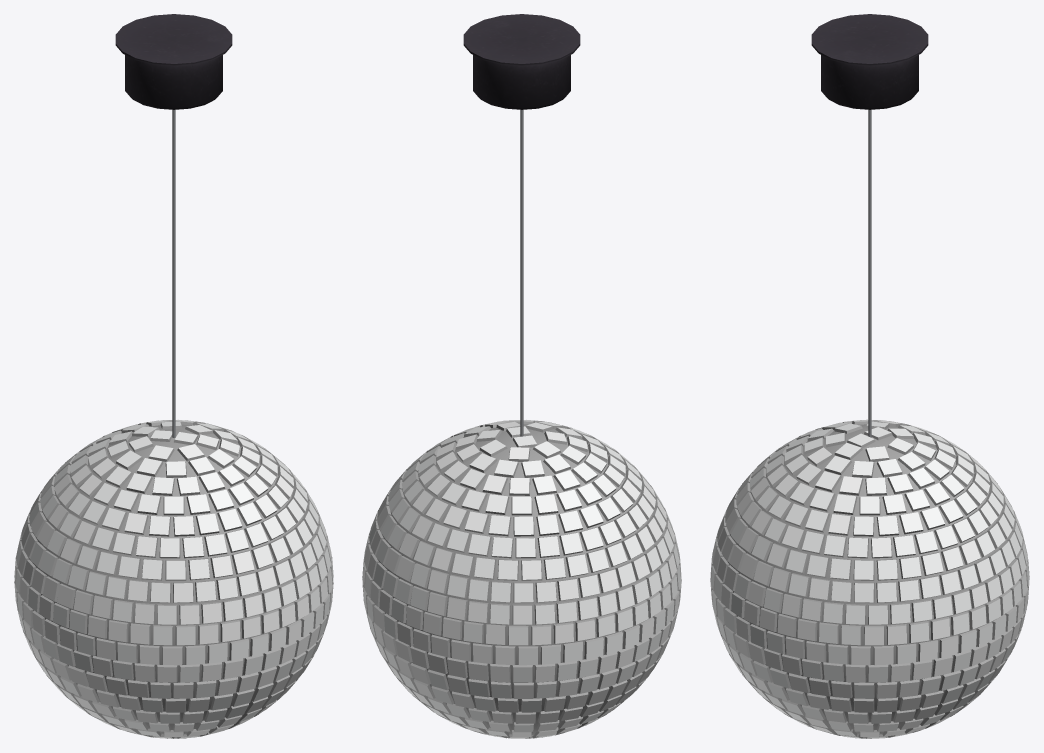
File: MirrorBall01.FBX
3 views of the same model, side by side, from view 1: azimuth 30°, elevation 25°; view 2: azimuth 150°, elevation 25°; view 3: azimuth 270°, elevation 25° (orthographic).
Parts seen in each view (by area): view 1: MirrorBall01; view 2: MirrorBall01; view 3: MirrorBall01.
Boxes of the visible parts, x1,y1,x2,y2 form: MirrorBall01: (14, 14, 333, 738); MirrorBall01: (362, 14, 681, 738); MirrorBall01: (710, 14, 1029, 738).
Bounding box in the file's own units: 110 × 259 × 110.
